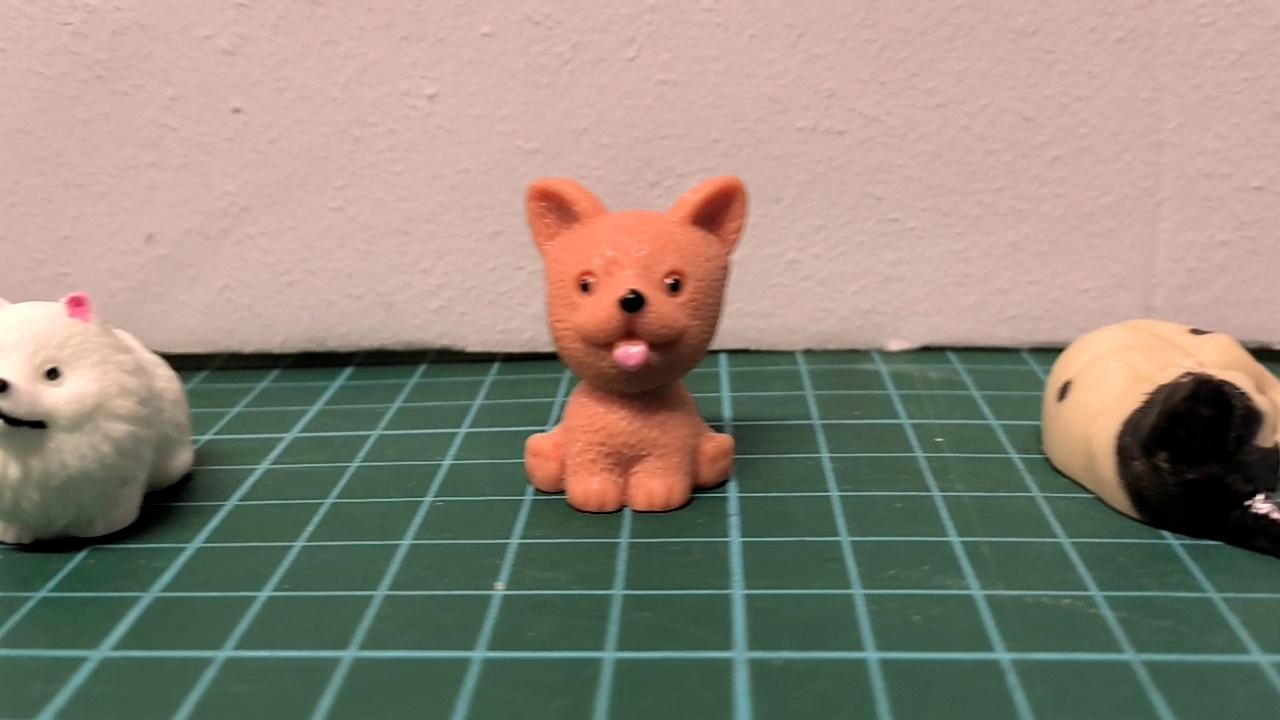pet: (522, 175, 750, 518), (1040, 314, 1280, 564), (0, 289, 197, 548)
